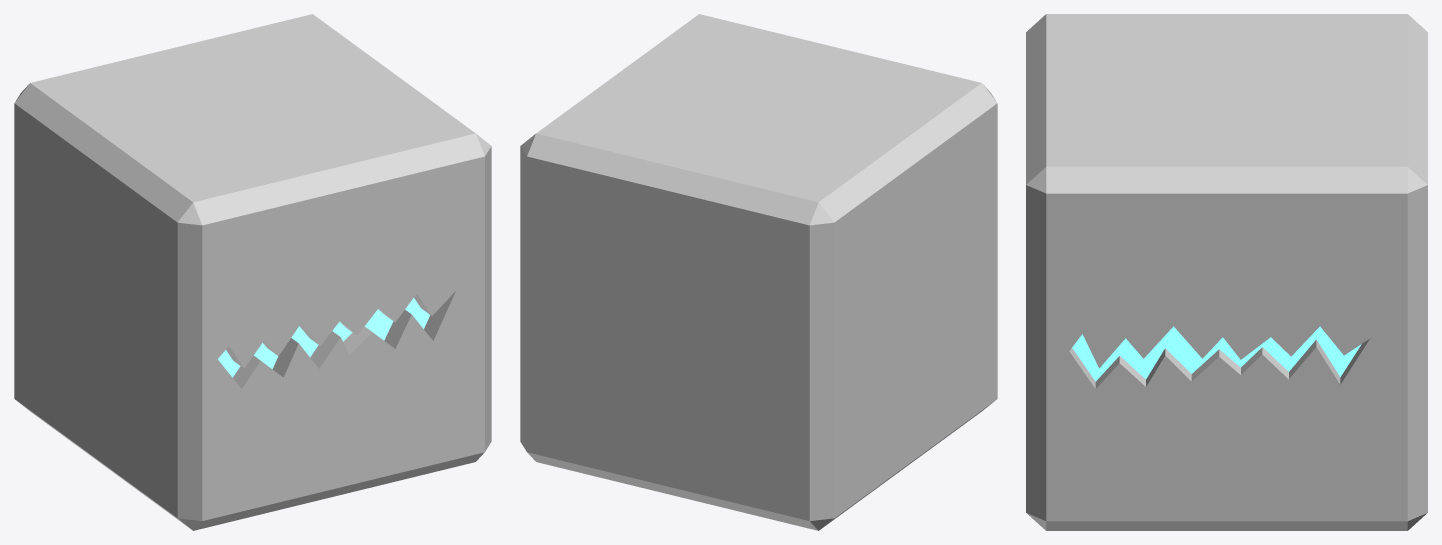
The model's file is Kupparazit.fbx.
3 renders of one model, left to right at view 1: azimuth 30°, elevation 25°; view 2: azimuth 150°, elevation 25°; view 3: azimuth 270°, elevation 25°, orthographic. The views are drawn at different scales.
Visible parts, largest first — view 1: Cube.002; view 2: Cube.002; view 3: Cube.002.
Boxes of the visible parts, box(x1,y1,x2,y2) form: Cube.002: box(14, 14, 491, 530); Cube.002: box(520, 14, 997, 530); Cube.002: box(1026, 14, 1427, 530).
Bounding box in the file's own units: 119 × 119 × 119.
